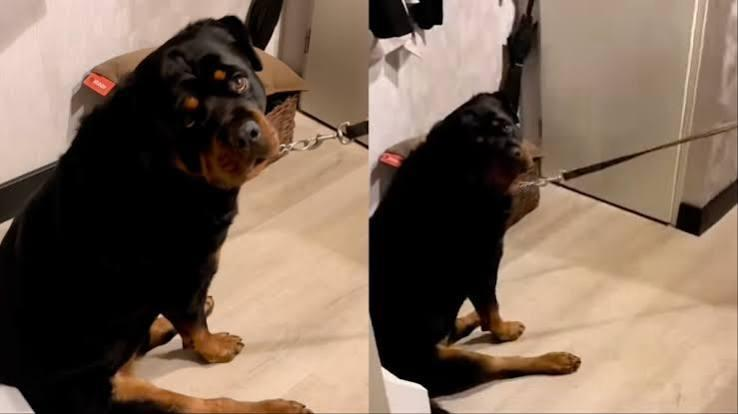adult_dog: (0, 14, 314, 414), (369, 94, 583, 396)
